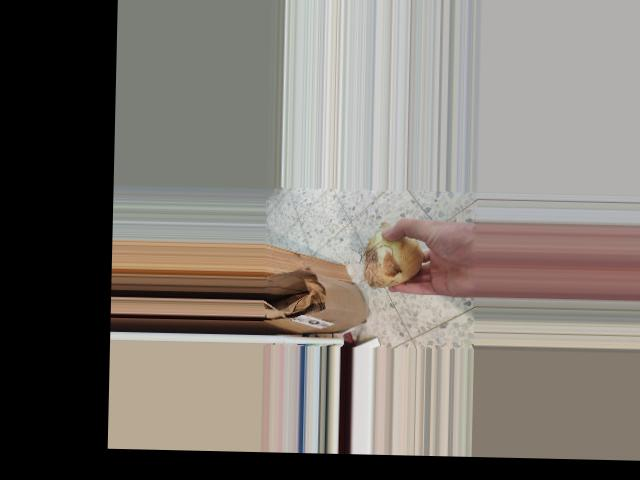onion: (361, 221, 427, 290)
